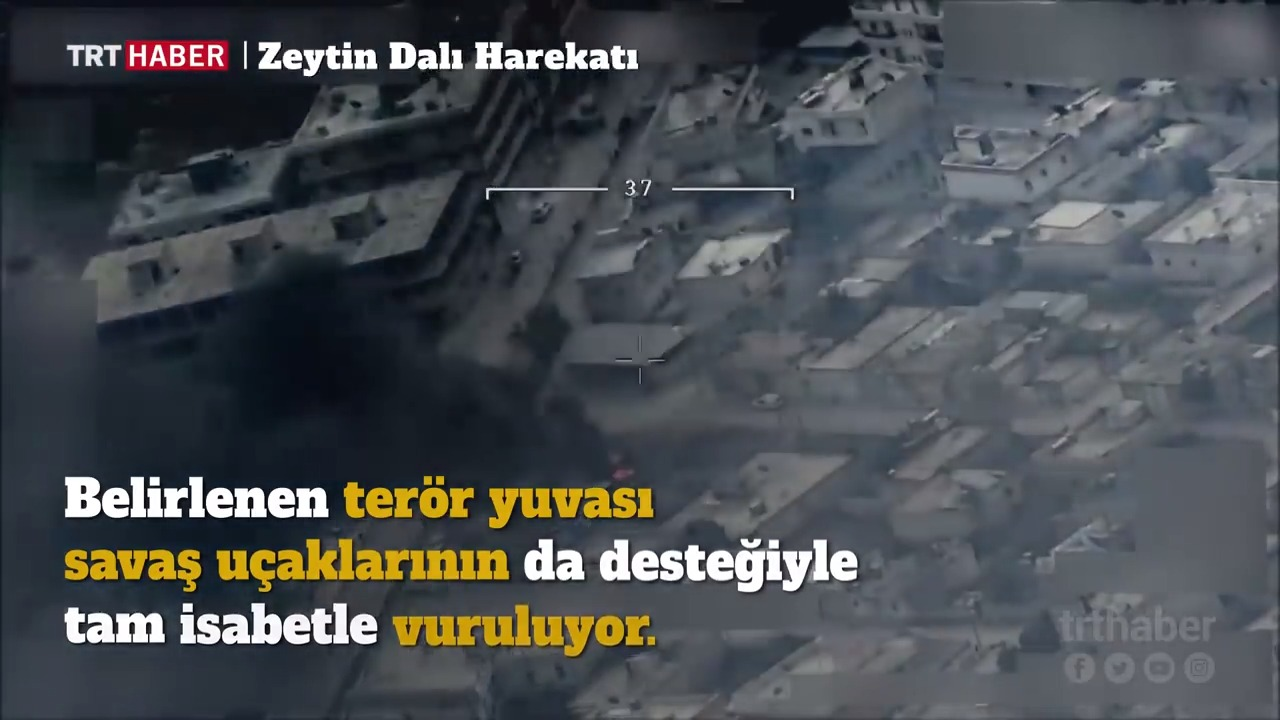arac: (742, 388, 789, 411), (528, 199, 557, 225)
